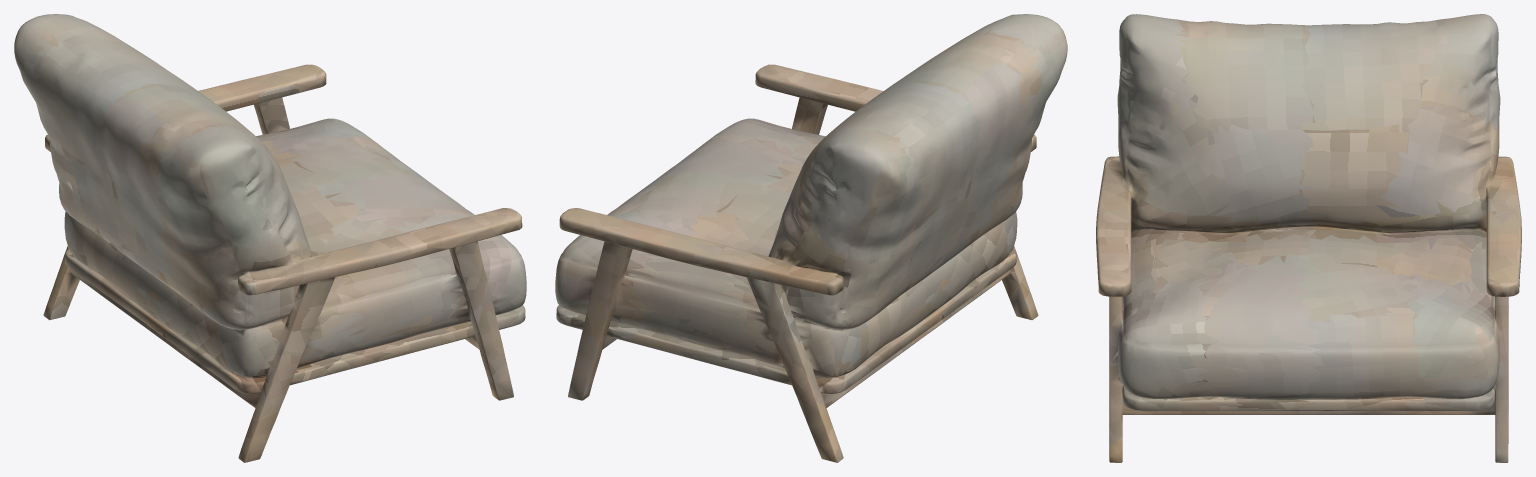
The model's file is JP_사물_s2_prop_sofa.glb.
3 renders of one model, left to right at view 1: azimuth 30°, elevation 25°; view 2: azimuth 150°, elevation 25°; view 3: azimuth 270°, elevation 25°, orthographic.
Parts seen in each view (by area): view 1: tripo_node_15b1aac3-d039-45ab-b0cb-7a9054b6316c; view 2: tripo_node_15b1aac3-d039-45ab-b0cb-7a9054b6316c; view 3: tripo_node_15b1aac3-d039-45ab-b0cb-7a9054b6316c.
Boxes of the visible parts, x1=… form: tripo_node_15b1aac3-d039-45ab-b0cb-7a9054b6316c: x1=14, y1=14, x2=526, y2=462; tripo_node_15b1aac3-d039-45ab-b0cb-7a9054b6316c: x1=555, y1=14, x2=1067, y2=462; tripo_node_15b1aac3-d039-45ab-b0cb-7a9054b6316c: x1=1096, y1=14, x2=1521, y2=462.
Size of the model in its own units: 0.9304 by 0.8004 by 1.
Materials: 1 (1 with a texture image).
